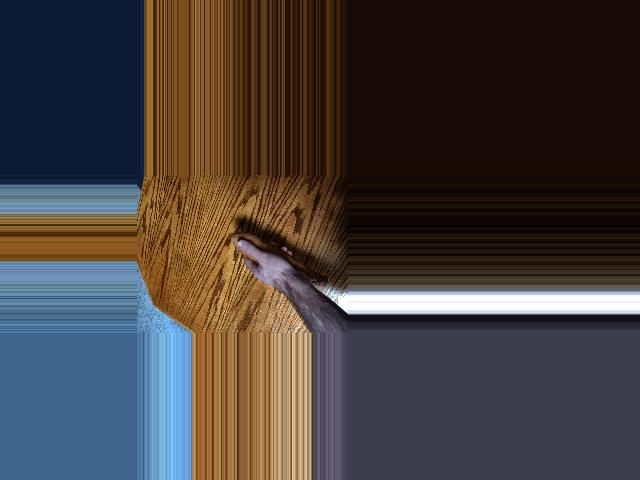sweet_potato: (235, 233, 330, 288)
